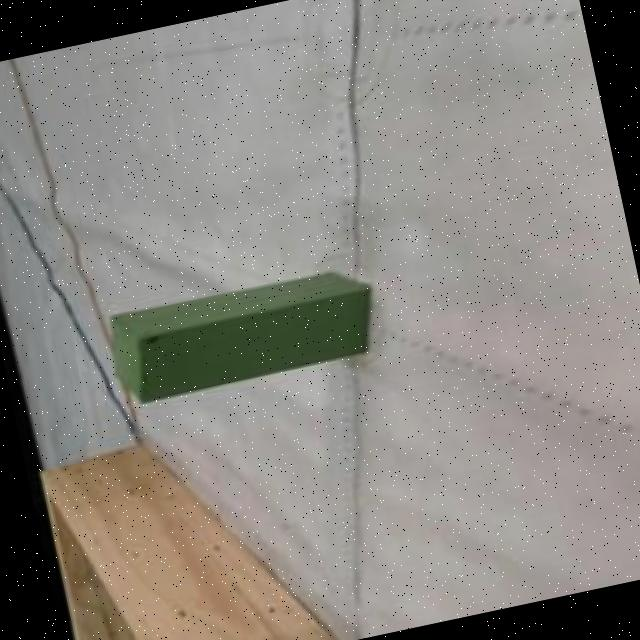greenbox: (98, 258, 390, 412)
